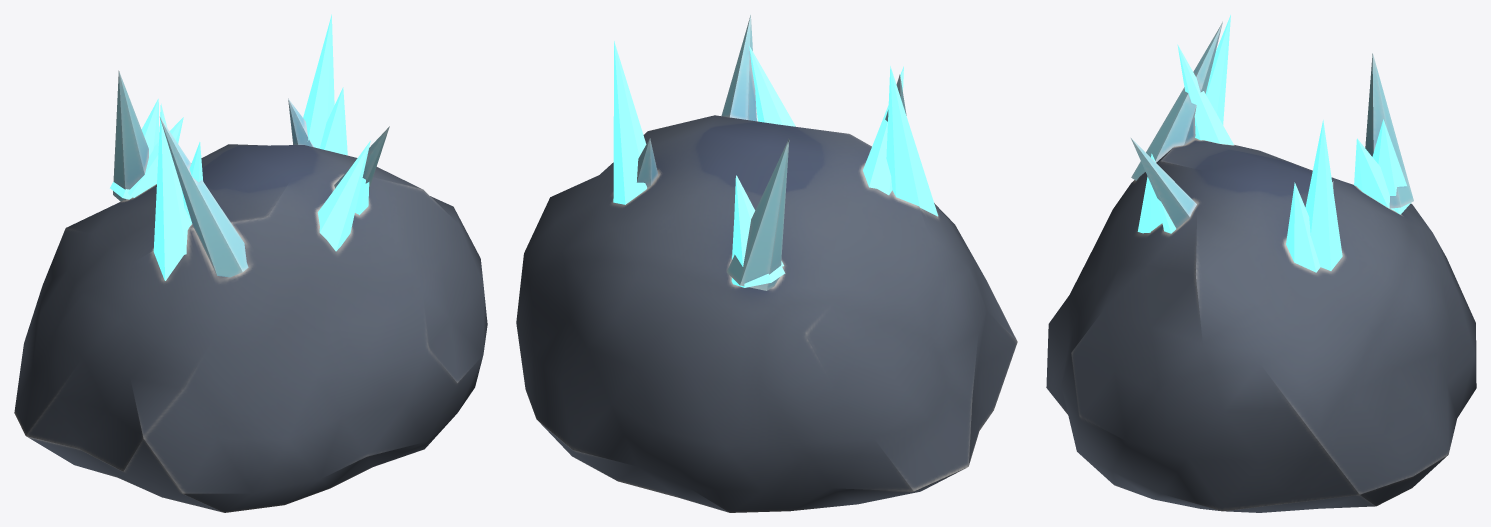
The model's file is node_hard_rock.glb.
3 views of the same model, side by side, from view 1: azimuth 30°, elevation 25°; view 2: azimuth 150°, elevation 25°; view 3: azimuth 270°, elevation 25° (orthographic). The views are drawn at different scales.
Parts seen in each view (by area): view 1: SM_NodeHardRock; view 2: SM_NodeHardRock; view 3: SM_NodeHardRock.
Part boxes in pixels (x1=…): SM_NodeHardRock: x1=14, y1=14, x2=487, y2=512; SM_NodeHardRock: x1=516, y1=14, x2=1017, y2=512; SM_NodeHardRock: x1=1046, y1=15, x2=1476, y2=512.
Bounding box in the file's own units: 1.88 × 1.57 × 1.61.
2 materials, 1 textured.
